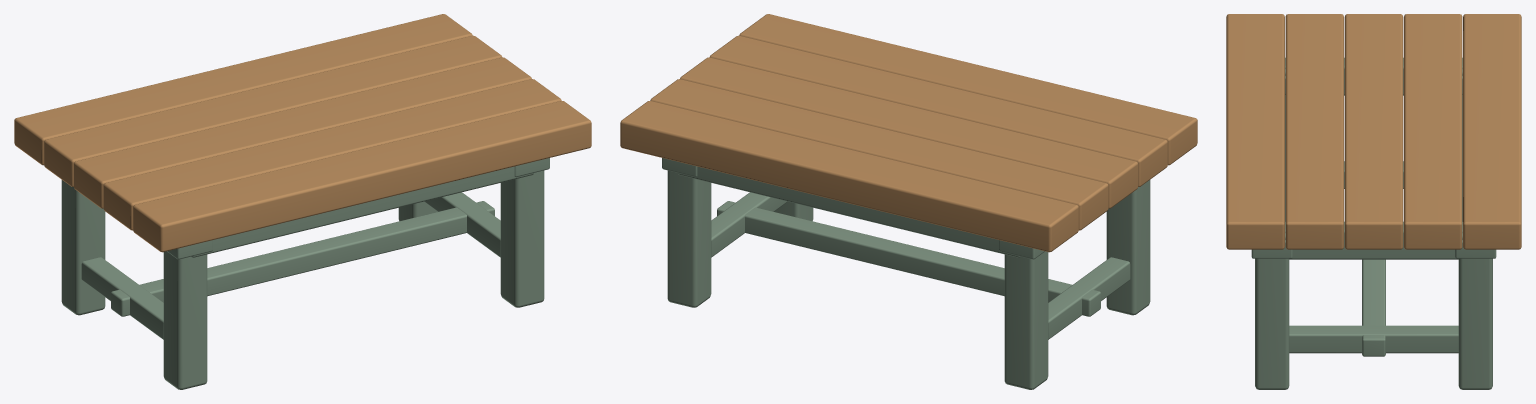
The model's file is diningtable.farm.glb.
3 views of the same model, side by side, from view 1: azimuth 30°, elevation 25°; view 2: azimuth 150°, elevation 25°; view 3: azimuth 270°, elevation 25° (orthographic).
Visible parts, largest first — view 1: Rounded solid oak plank 0; view 2: Rounded solid oak plank 0; view 3: Rounded solid oak plank 0.
Part boxes in pixels (left/top/right/bottom): Rounded solid oak plank 0: left=14, top=14, right=591, bottom=389; Rounded solid oak plank 0: left=620, top=14, right=1197, bottom=389; Rounded solid oak plank 0: left=1226, top=14, right=1521, bottom=389.
Size of the model in its own units: 2.1 by 0.86 by 1.25.
